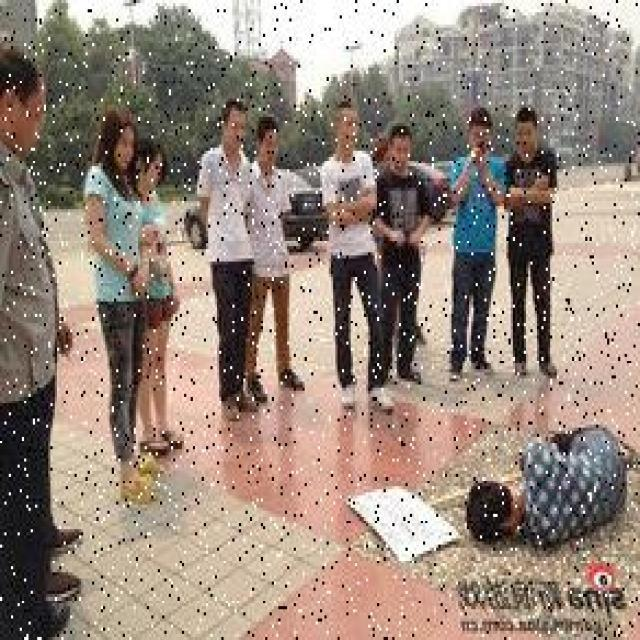fall: (462, 416, 638, 548)
